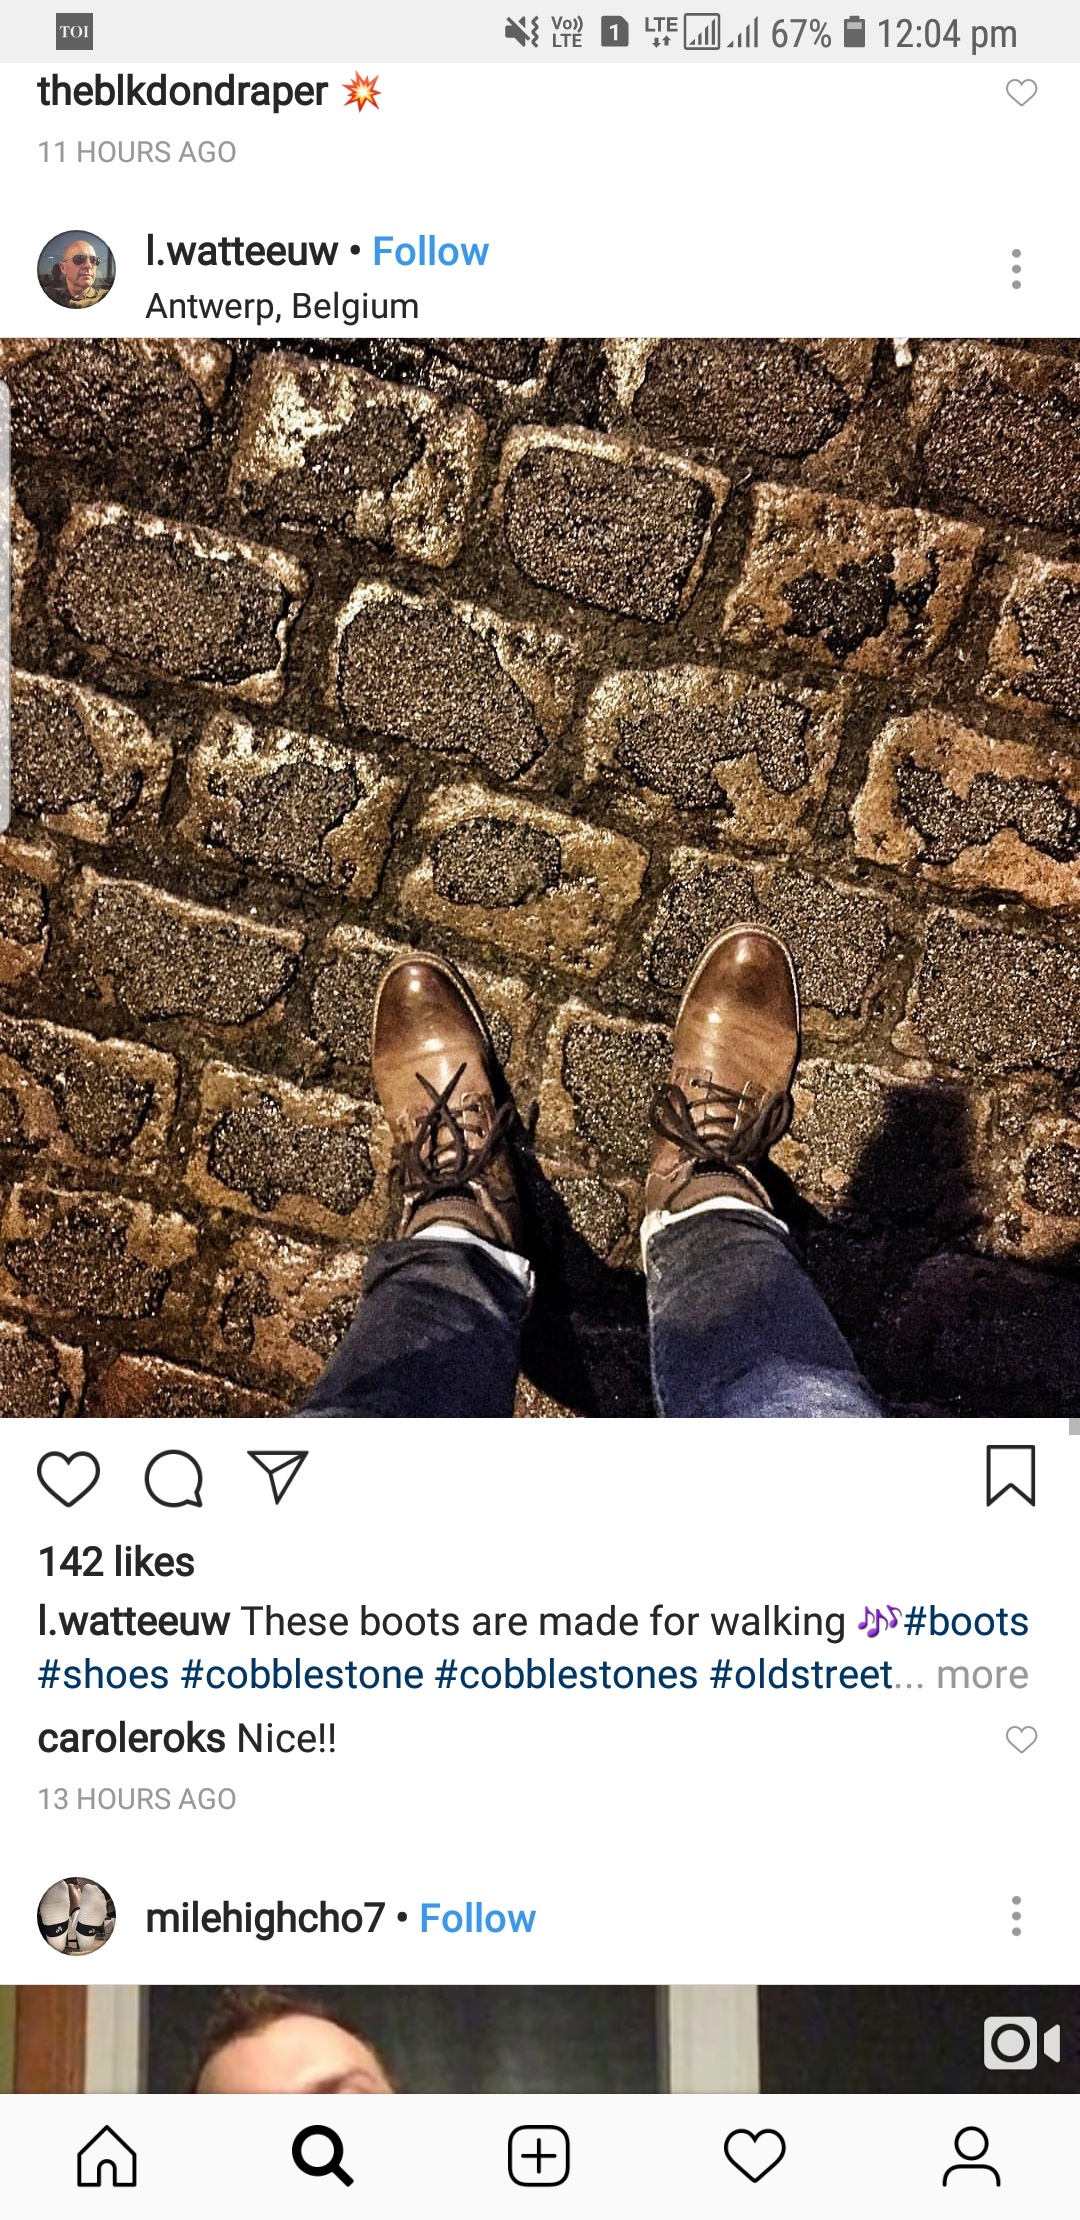feet: (323, 956, 558, 1269), (636, 902, 815, 1269)
